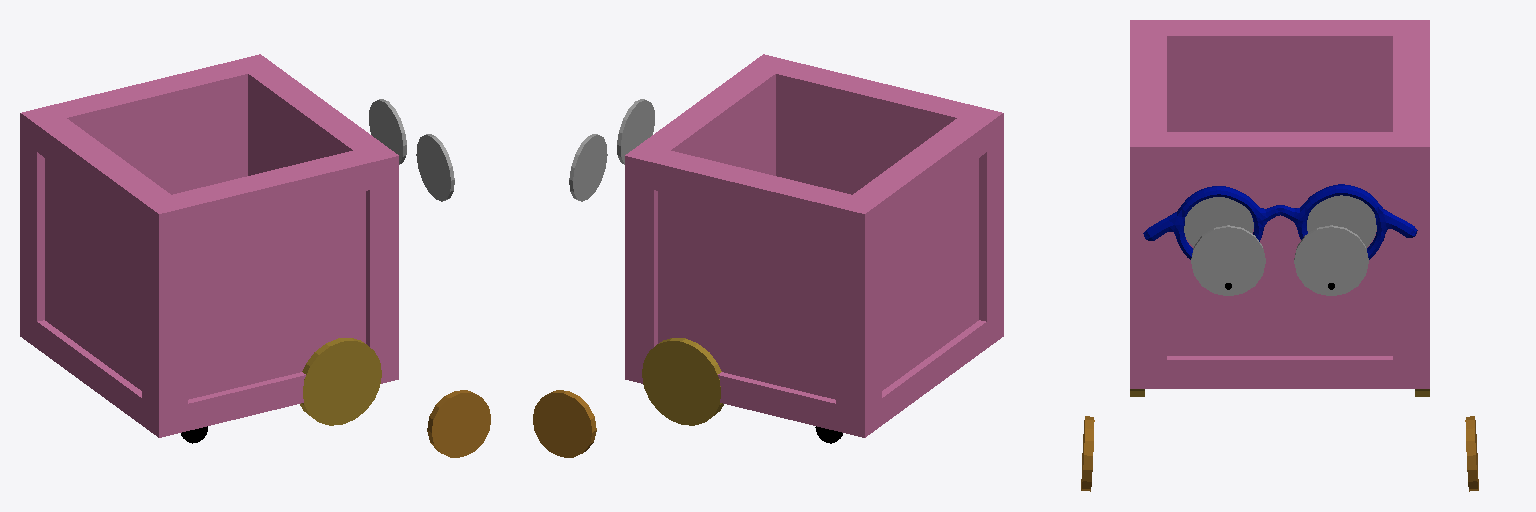
The robot description file, URDF, robot "ranger":
<?xml version="1.0" ?>
<robot name="ranger">
  <link name="base_link"/>
  <link name="depth_camera_link"/>
  <link name="l_wheel_link">
    <visual>
      <origin rpy="0.0 -0.0 0.0" xyz="0.0 0.0 0.0"/>
      <geometry>
        <mesh filename="package://ranger_description/meshes/wheel.dae"/>
      </geometry>
    </visual>
    <intertial>
      <mass value="0.26"/>
      <origin xyz="0.0 0.0 0.0"/>
    </intertial>
  </link>
  <link name="r_wheel_link">
    <visual>
      <origin rpy="0.0 -0.0 0.0" xyz="0.0 0.0 0.0"/>
      <geometry>
        <mesh filename="package://ranger_description/meshes/wheel.dae"/>
      </geometry>
    </visual>
    <intertial>
      <mass value="0.26"/>
      <origin xyz="0.0 0.0 0.0"/>
    </intertial>
  </link>
  <link name="l_eye_link">
    <visual>
      <origin rpy="0.0 -0.0 0.0" xyz="0.0 0.0 0.0"/>
      <geometry>
        <mesh filename="package://ranger_description/meshes/eye.dae"/>
      </geometry>
    </visual>
    <intertial>
      <mass value="0.01"/>
      <origin xyz="0.0 0.0 0.0"/>
    </intertial>
  </link>
  <link name="r_eye_link">
    <visual>
      <origin rpy="0.0 -0.0 0.0" xyz="0.0 0.0 0.0"/>
      <geometry>
        <mesh filename="package://ranger_description/meshes/eye.dae"/>
      </geometry>
    </visual>
    <intertial>
      <mass value="0.01"/>
      <origin xyz="0.0 0.0 0.0"/>
    </intertial>
  </link>
  <link name="box">
    <visual>
      <origin rpy="0.0 -0.0 0.0" xyz="0.0 0.0 0.0"/>
      <geometry>
        <mesh filename="package://ranger_description/meshes/ranger.dae"/>
      </geometry>
    </visual>
    <intertial>
      <mass value="3.26"/>
      <origin xyz="-0.049489 0.000892912 -0.0408259"/>
    </intertial>
  </link>

  <joint name="base_link_depth_camera_joint" type="fixed">
    <parent link="base_link"/>
    <child link="depth_camera_link"/>
    <origin rpy="0 0.0 0.0" xyz="0.055 0.0 0.317"/>
  </joint>
  <joint name="base_link_box_joint" type="fixed">
    <parent link="base_link"/>
    <child link="box"/>
    <origin rpy="0 0.0 0.0" xyz="-0.13 0.0 0.0"/>
  </joint>
  <joint name="base_link_l_wheel_joint" type="fixed">
    <parent link="base_link"/>
    <child link="l_wheel_link"/>
    <origin rpy="1.52 0.0 0.0" xyz="0.0 -0.205 -0.011"/>
  </joint>
  <joint name="base_link_r_wheel_joint" type="fixed">
    <parent link="base_link"/>
    <child link="r_wheel_link"/>
    <origin rpy="-1.52 0.0 0.0" xyz="0.0 0.205 -0.011"/>
  </joint>
  <joint name="base_link_l_eye_joint" type="fixed">
    <parent link="base_link"/>
    <child link="l_eye_link"/>
    <origin rpy="0.0 1.52 0.0" xyz="0.055 -0.055 0.242"/>
  </joint>
  <joint name="base_link_r_eye_joint" type="fixed">
    <parent link="base_link"/>
    <child link="r_eye_link"/>
    <origin rpy="0.0 1.52 0.0" xyz="0.055 0.055 0.242"/>
  </joint>


</robot>

--- Render facts (derived) ---
The picture shows the robot from 3 angles, left to right: view 1: azimuth 30°, elevation 25°; view 2: azimuth 150°, elevation 25°; view 3: azimuth 270°, elevation 25°; orthographic projection.
Model ranger with 7 links and 6 joints (6 fixed), rooted at base_link, posed all joints at 0.
Visible links, largest first — view 1: box, l_wheel_link, l_eye_link, r_eye_link; view 2: box, r_wheel_link, r_eye_link, l_eye_link; view 3: box, l_eye_link, r_eye_link, l_wheel_link, r_wheel_link.
Boxes of the visible links, x1=… form: box: x1=20, y1=54, x2=398, y2=443; l_wheel_link: x1=427, y1=390, x2=490, y2=457; l_eye_link: x1=416, y1=134, x2=454, y2=201; r_eye_link: x1=369, y1=99, x2=406, y2=164; box: x1=625, y1=54, x2=1003, y2=443; r_wheel_link: x1=533, y1=390, x2=596, y2=457; r_eye_link: x1=569, y1=134, x2=607, y2=201; l_eye_link: x1=617, y1=99, x2=654, y2=164; box: x1=1130, y1=20, x2=1429, y2=396; l_eye_link: x1=1191, y1=225, x2=1265, y2=295; r_eye_link: x1=1294, y1=225, x2=1368, y2=295; l_wheel_link: x1=1081, y1=416, x2=1094, y2=491; r_wheel_link: x1=1465, y1=416, x2=1478, y2=491.
Bounding box of the posed robot: 0.4335 × 0.424 × 0.3763 m (x, y, z).
5 mesh visuals loaded from 3 distinct referenced files (3 Collada DAE).